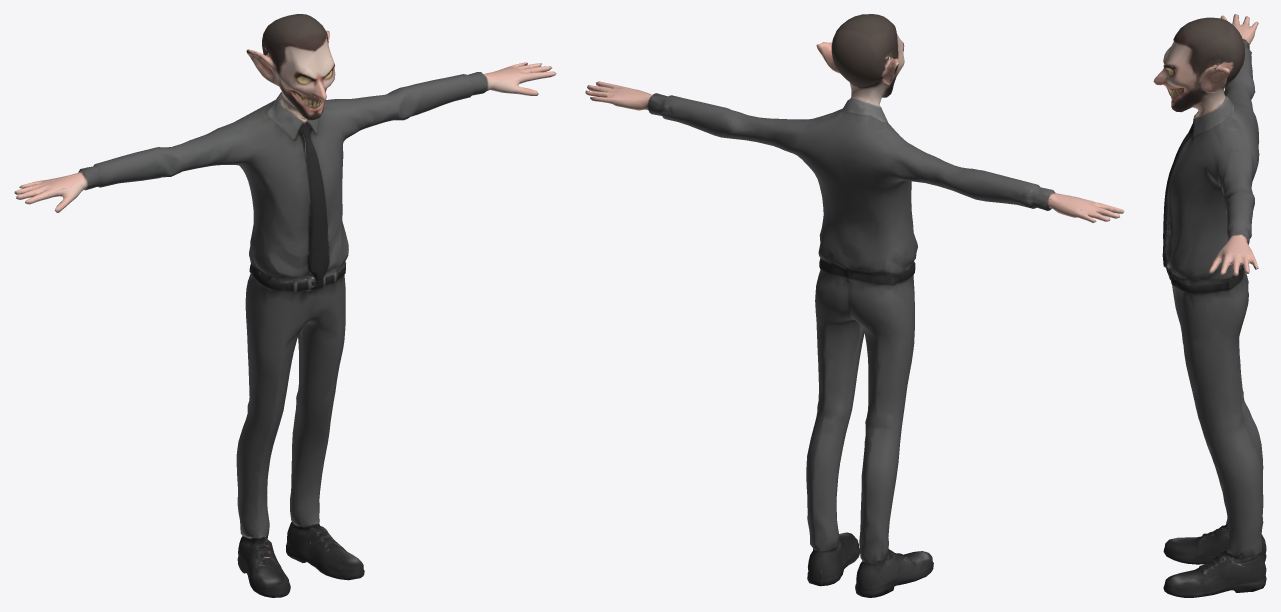
Rendered from CalisanErkek1Canavar.fbx.
3 renders of one model, left to right at view 1: azimuth 30°, elevation 25°; view 2: azimuth 150°, elevation 25°; view 3: azimuth 270°, elevation 25°, orthographic.
Visible parts, largest first — view 1: Mesh_0; view 2: Mesh_0; view 3: Mesh_0.
Part boxes in pixels (bbox=[...]): Mesh_0: bbox=[14, 14, 556, 597]; Mesh_0: bbox=[585, 14, 1124, 597]; Mesh_0: bbox=[1153, 14, 1266, 597].
Bounding box in the file's own units: 191 × 190 × 35.21.
1 material, 1 textured.
